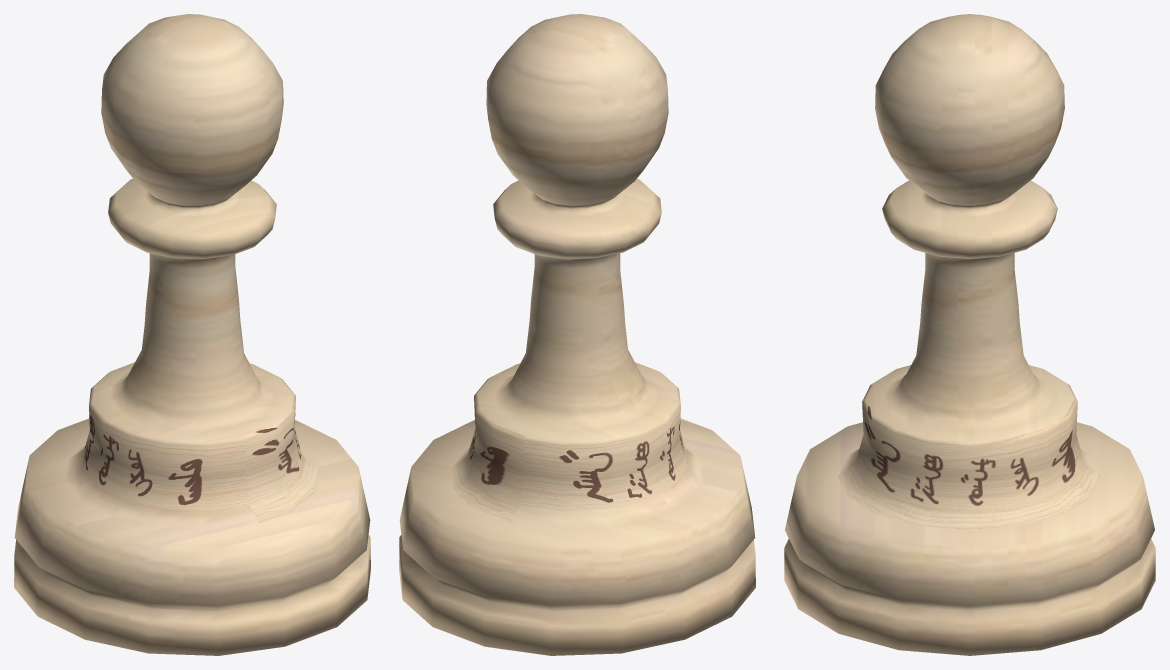
File: Peon.fbx
3 renders of one model, left to right at view 1: azimuth 30°, elevation 25°; view 2: azimuth 150°, elevation 25°; view 3: azimuth 270°, elevation 25°, orthographic.
Parts seen in each view (by area): view 1: Vert.006; view 2: Vert.006; view 3: Vert.006.
Part boxes in pixels (bbox=[...]): Vert.006: bbox=[14, 14, 370, 655]; Vert.006: bbox=[399, 14, 755, 655]; Vert.006: bbox=[784, 14, 1155, 655].
Bounding box in the file's own units: 39.85 × 68.47 × 41.32.
2 materials, 2 textured.
